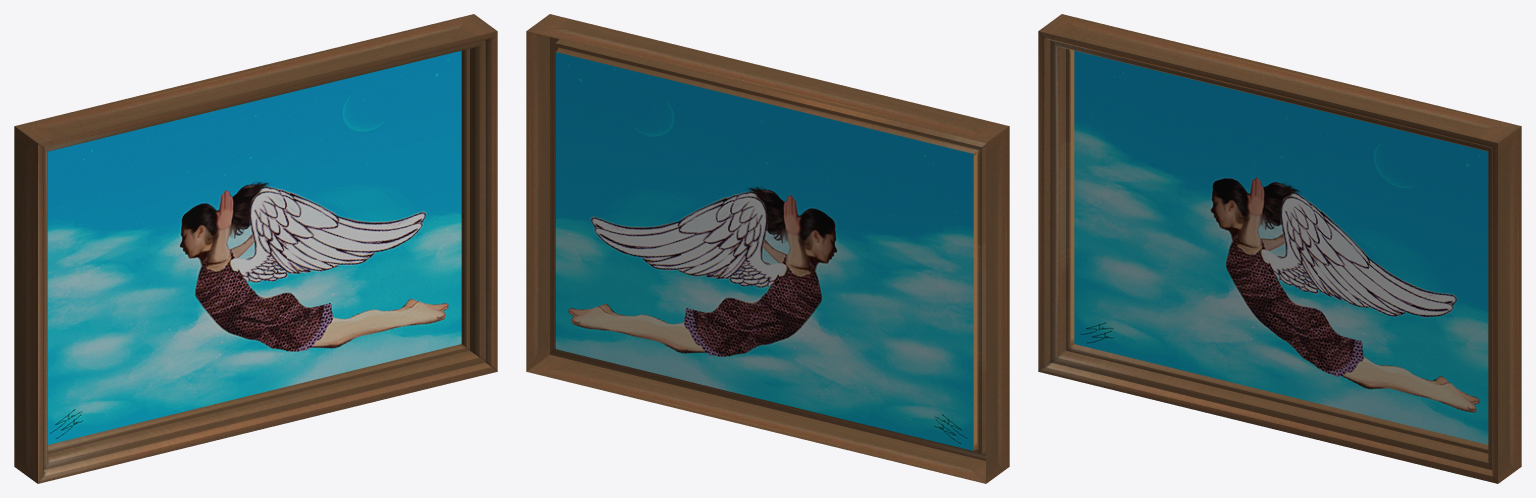
Rendered from RoomArt2.FBX.
3 views of the same model, side by side, from view 1: azimuth 30°, elevation 25°; view 2: azimuth 150°, elevation 25°; view 3: azimuth 330°, elevation 25° (orthographic).
Visible parts, largest first — view 1: Box001; view 2: Box001; view 3: Box001.
Part boxes in pixels (box(x1,y1,x2,y2)): Box001: box(14, 14, 497, 483); Box001: box(526, 14, 1009, 483); Box001: box(1038, 14, 1521, 483).
Bounding box in the file's own units: 99.25 × 70.3 × 8.74.
